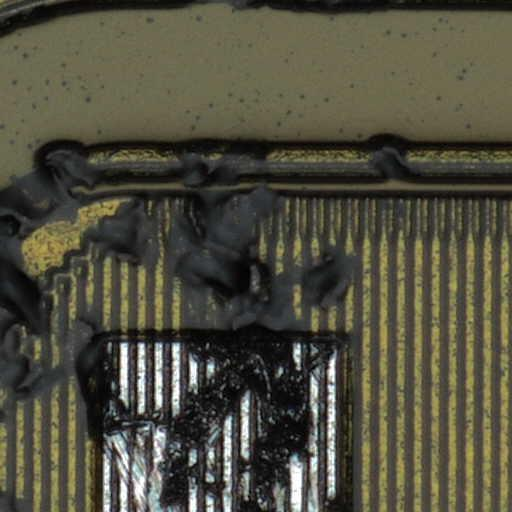SCRATCH: (1, 113, 417, 512)
